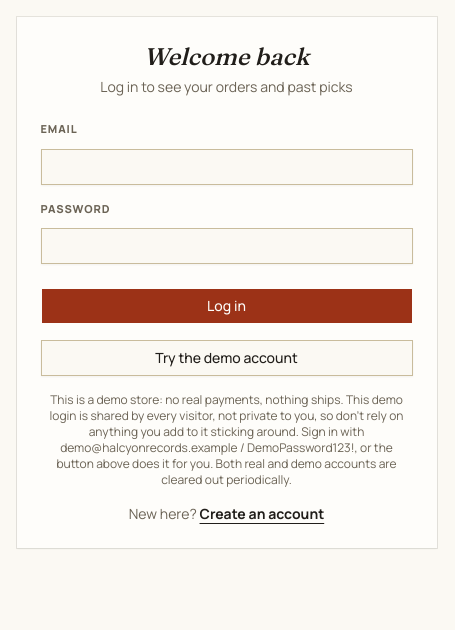
Test case: LoginForm › shows validation errors when submitted empty
What coordinates should you click on to do the following:
click the button "Log in"
I would click on:
 (226, 306)
Its box is [40,288,412,324].
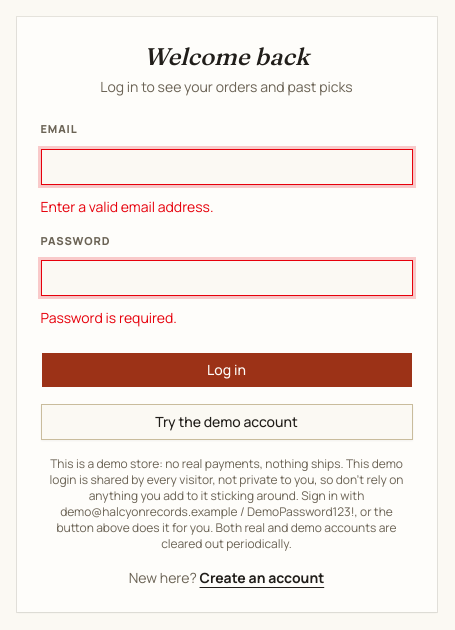
expect the text "Enter a valid email address." is shown: met, box [40,197,214,216]
expect the text "Password is required." is shown: met, box [40,308,177,327]
